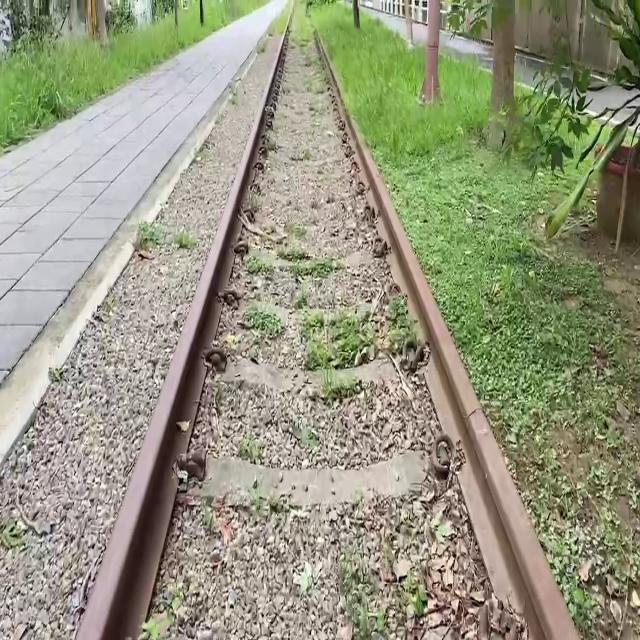rail-track: (141, 30, 525, 640)
